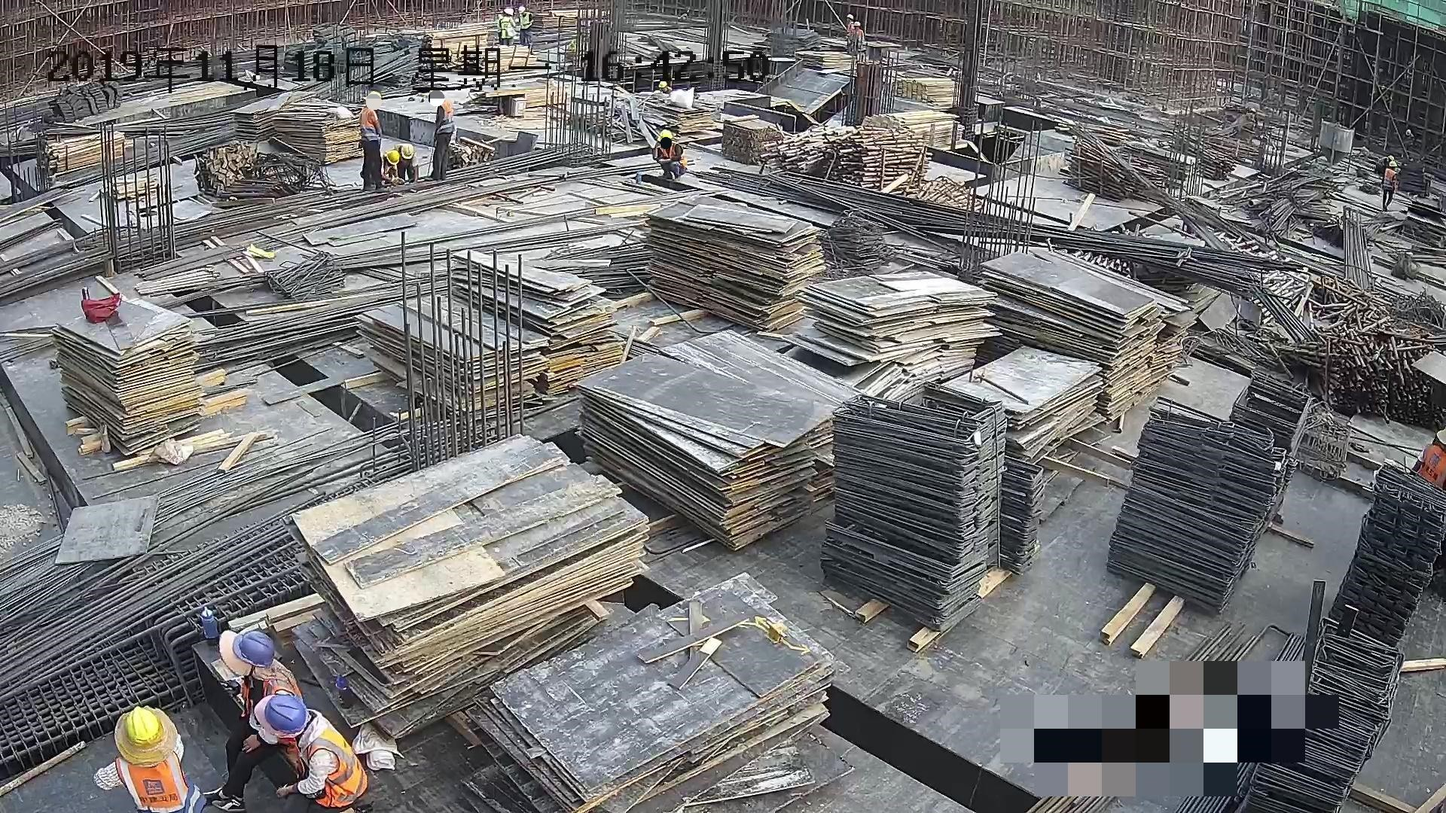hat: (259, 691, 312, 744), (226, 629, 279, 678), (118, 703, 166, 756), (367, 90, 383, 109), (427, 87, 442, 105)
person: (201, 625, 300, 813), (258, 694, 365, 813), (94, 704, 200, 813), (356, 90, 389, 196), (423, 85, 457, 187)
